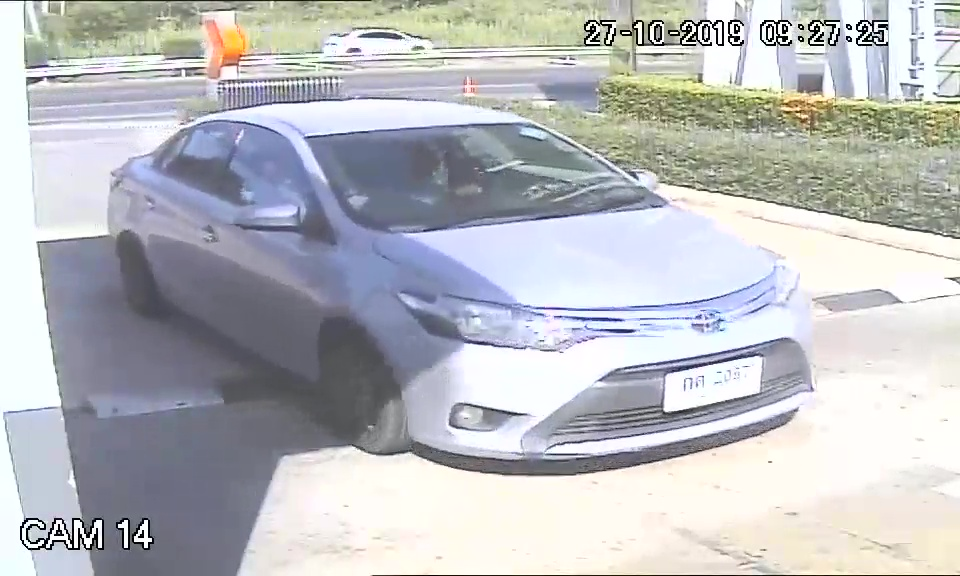sedan: (97, 98, 825, 470)
